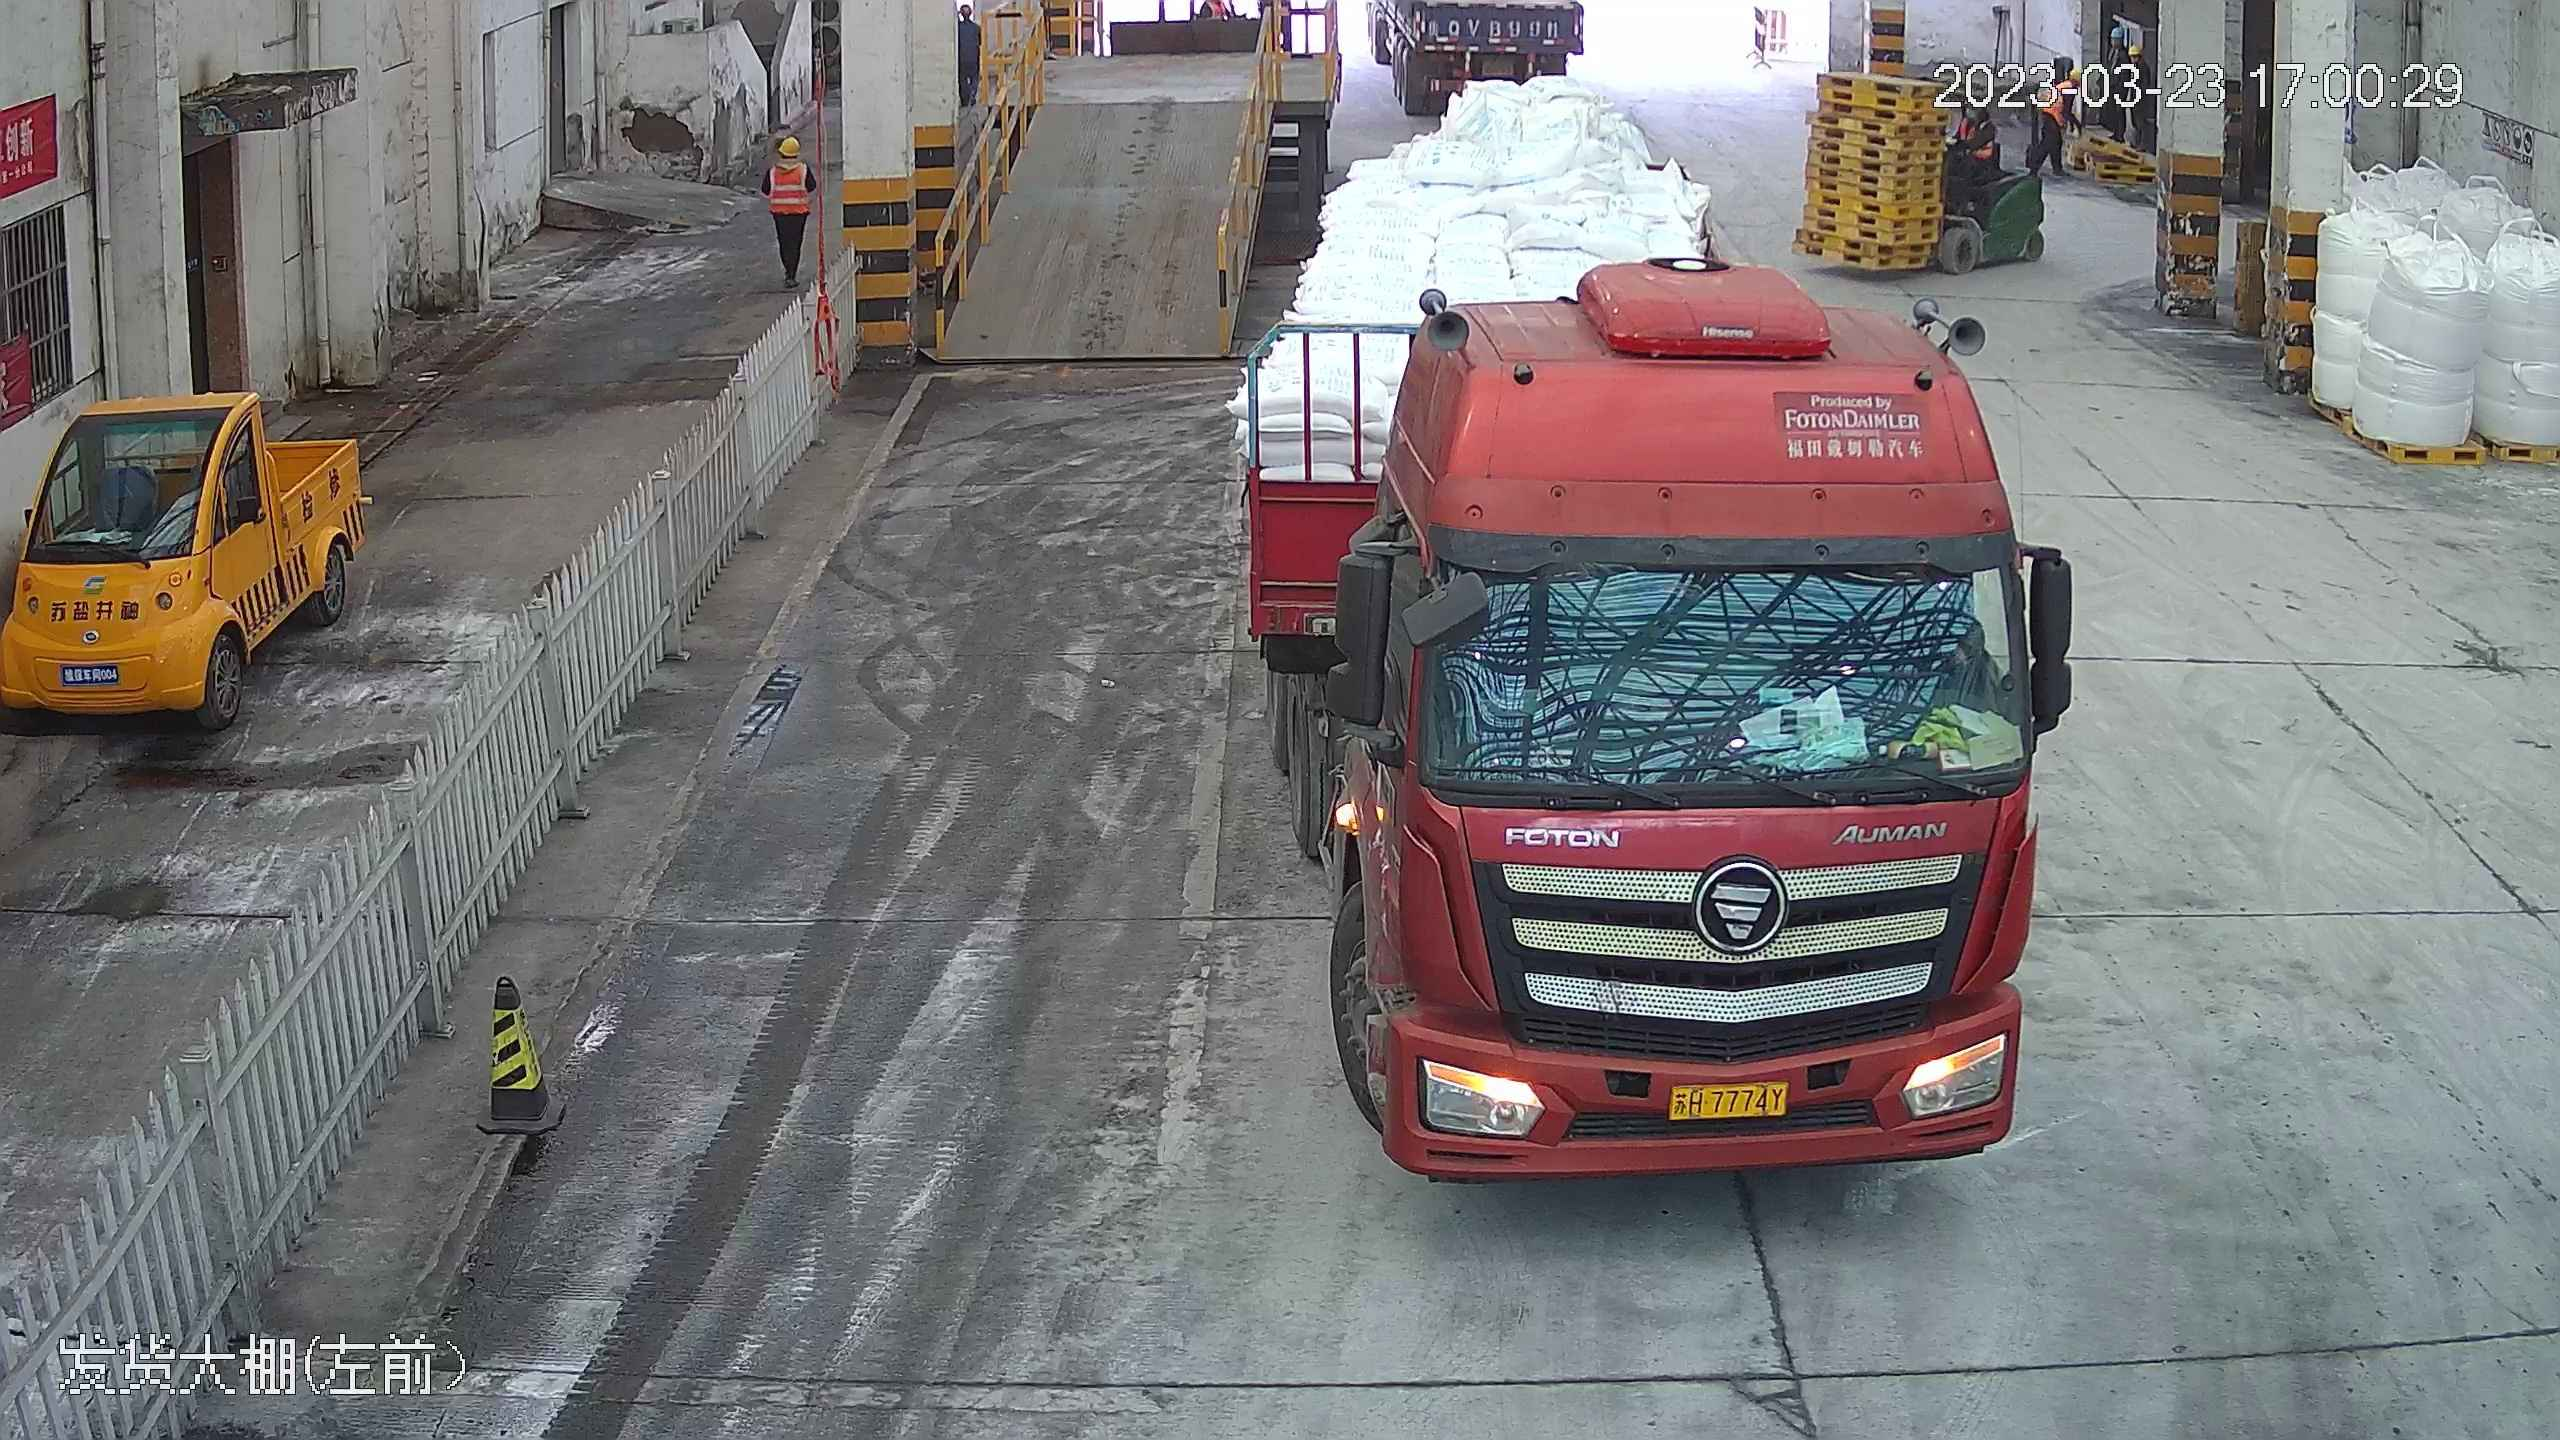head: (767, 132, 810, 184), (2051, 67, 2087, 106), (2107, 25, 2131, 67), (2126, 44, 2152, 80)
helmet: (775, 133, 800, 152), (2069, 67, 2085, 86), (2110, 26, 2125, 39), (2130, 44, 2142, 58)
people: (759, 126, 817, 285), (2032, 68, 2086, 182), (2102, 22, 2132, 146), (2127, 44, 2154, 152)
truck: (1240, 24, 2074, 1208)
